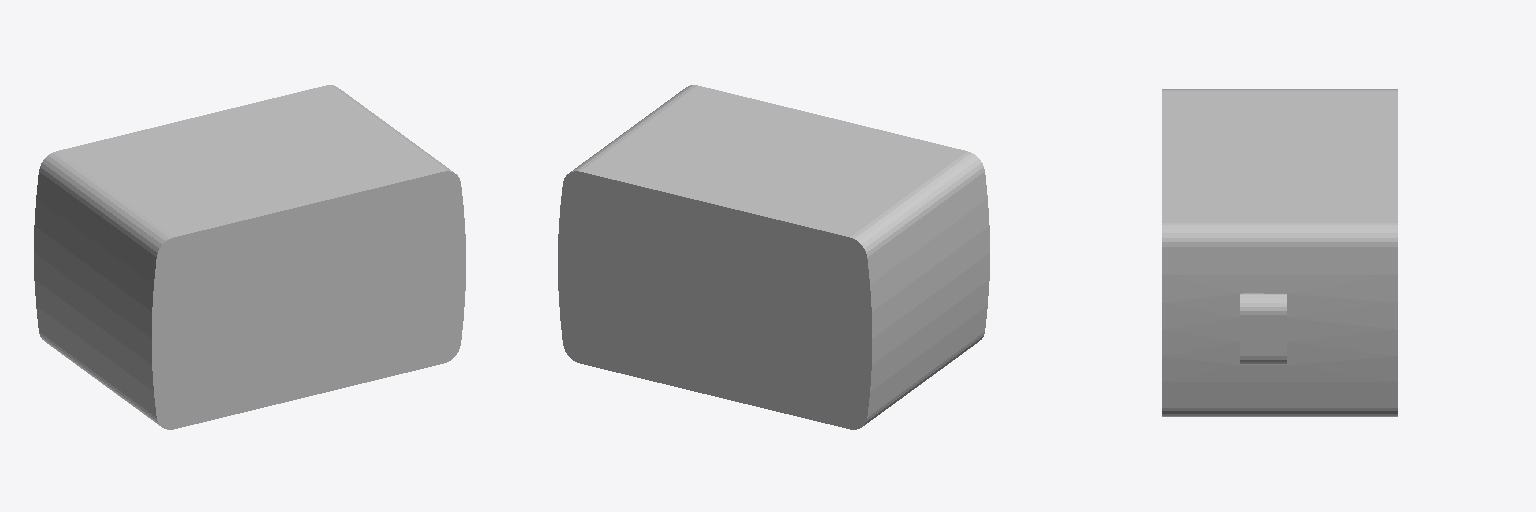
Rendered from KMR_coll.obj.
3 views of the same model, side by side, from view 1: azimuth 30°, elevation 25°; view 2: azimuth 150°, elevation 25°; view 3: azimuth 270°, elevation 25° (orthographic).
Visible parts, largest first — view 1: KMR_Collision; view 2: KMR_Collision; view 3: KMR_Collision.
Boxes of the visible parts, x1=… form: KMR_Collision: x1=34, y1=85, x2=465, y2=429; KMR_Collision: x1=558, y1=85, x2=989, y2=429; KMR_Collision: x1=1162, y1=89, x2=1397, y2=416.
Size of the model in its own units: 11.21 by 6.3 by 7.